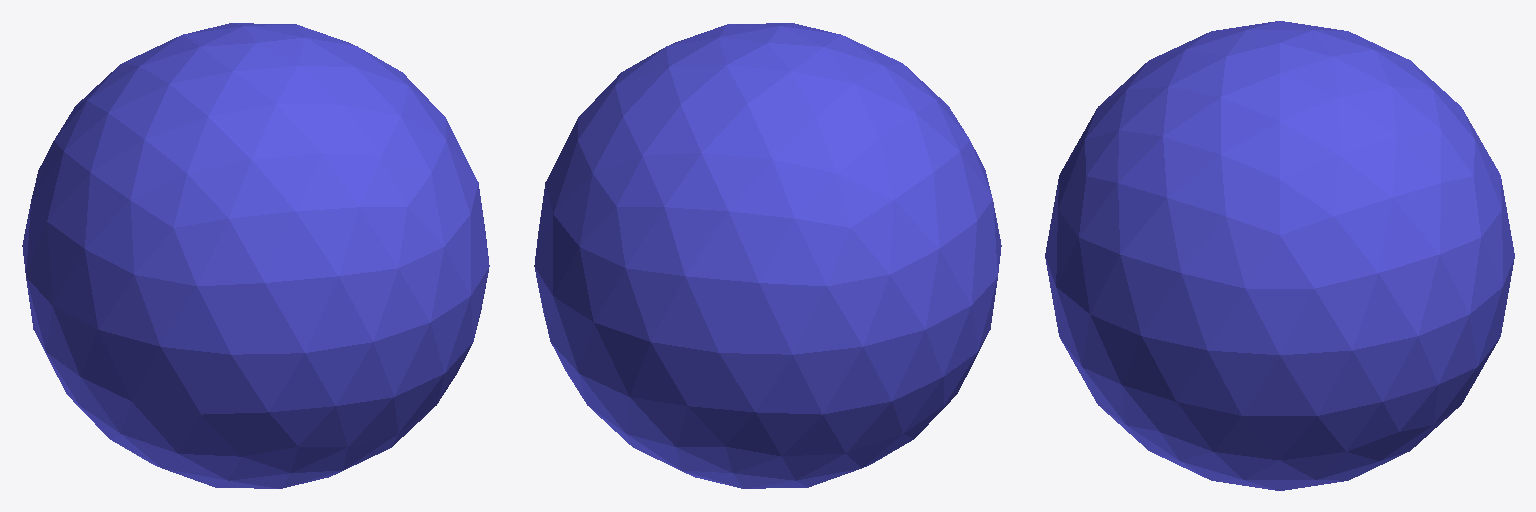
Rendered from mysphere.obj.
3 views of the same model, side by side, from view 1: azimuth 30°, elevation 25°; view 2: azimuth 150°, elevation 25°; view 3: azimuth 270°, elevation 25° (orthographic).
Bounding box in the file's own units: 7.92 × 7.92 × 7.92.